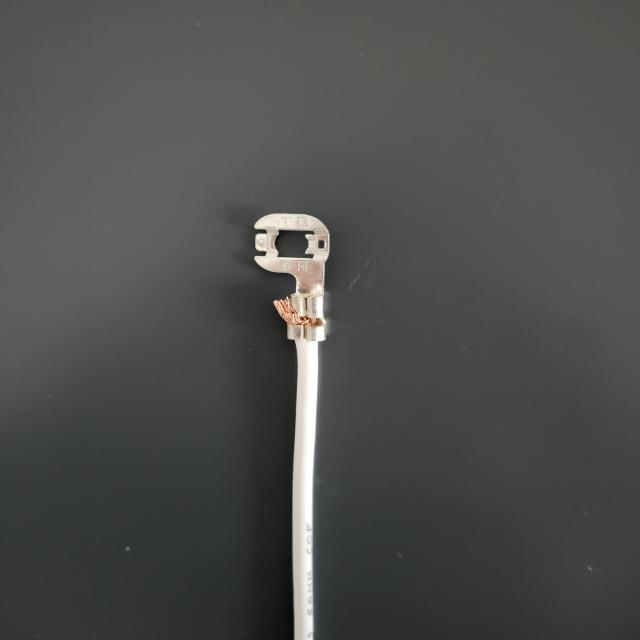defect: (233, 274, 405, 382)
